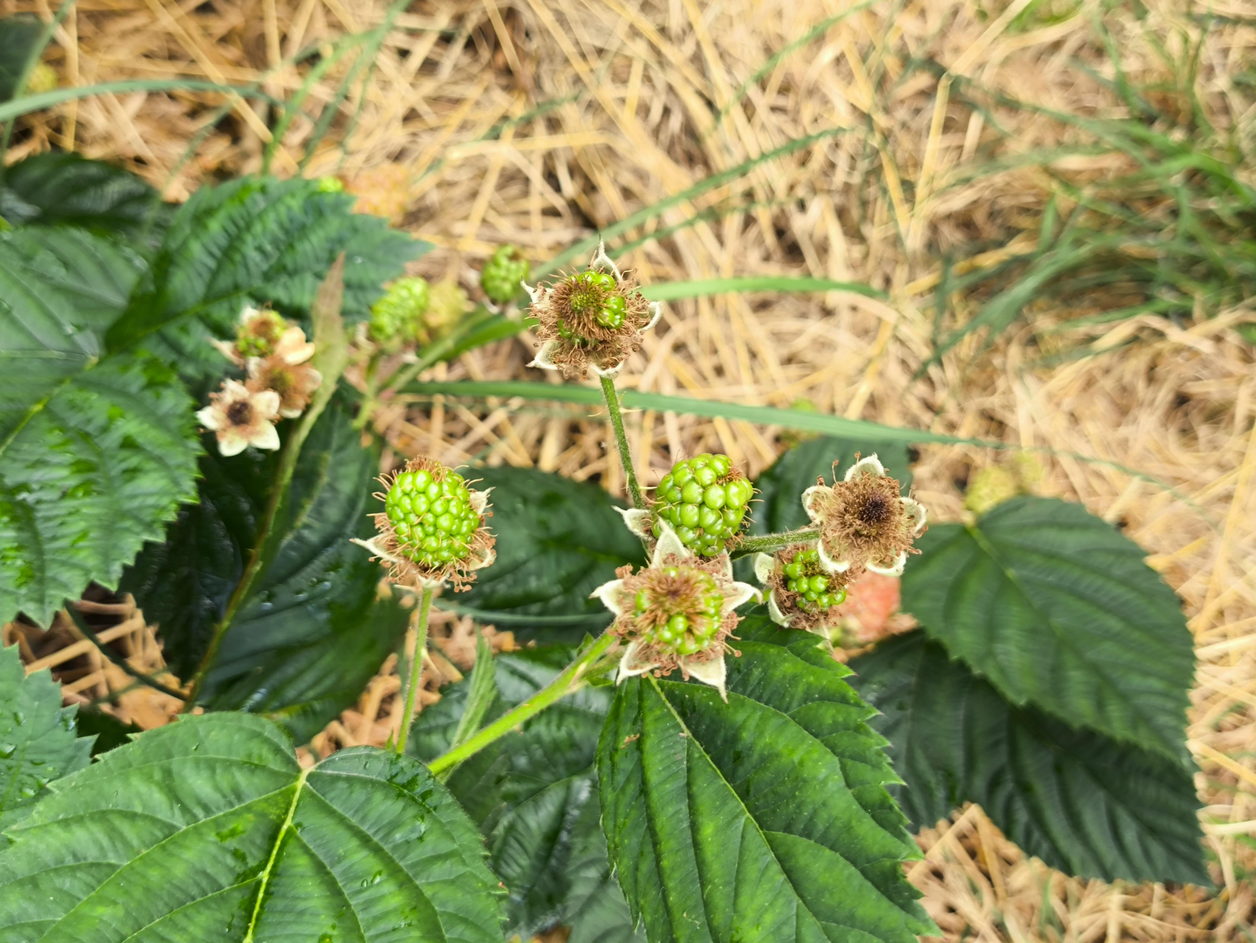flor: (803, 455, 927, 574), (197, 380, 280, 456)
verde: (384, 461, 483, 570), (651, 454, 753, 556), (370, 277, 429, 345), (479, 244, 528, 304)
